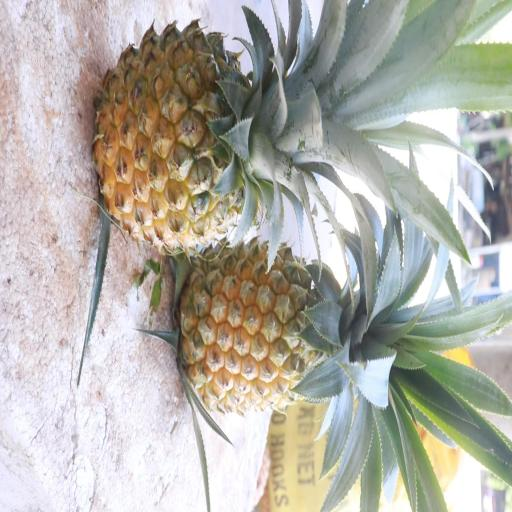Pineapple - v8 v1: (90, 10, 335, 256), (174, 232, 386, 422)
